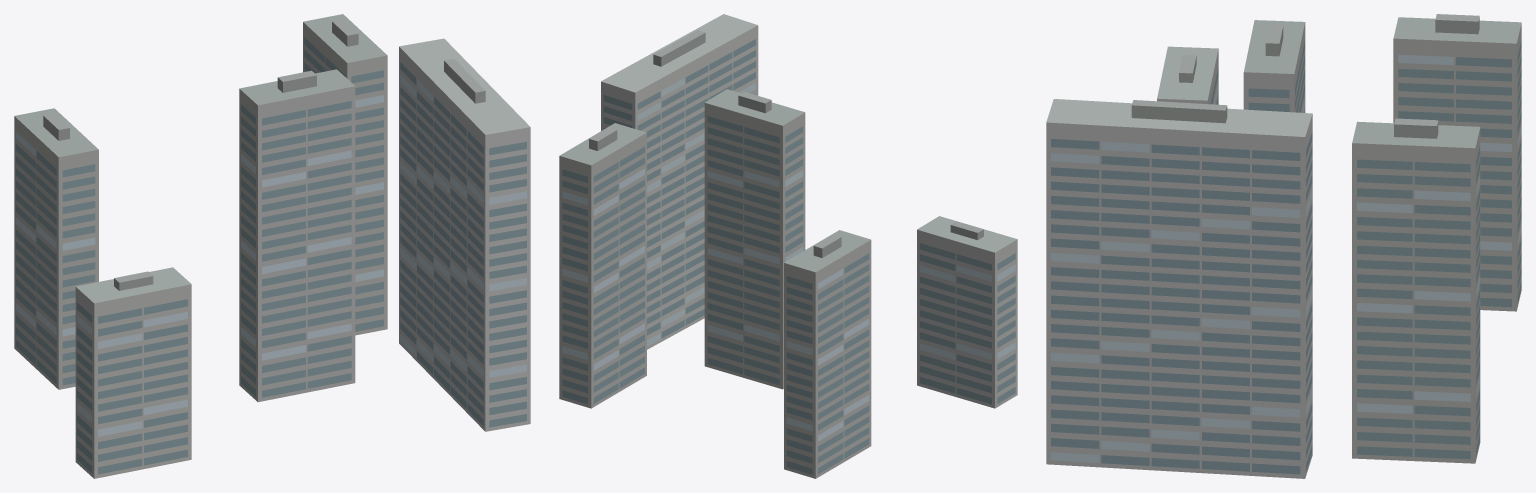
Rendered from apt-a15083202.glb.
3 views of the same model, side by side, from view 1: azimuth 30°, elevation 25°; view 2: azimuth 150°, elevation 25°; view 3: azimuth 270°, elevation 25° (orthographic). The views are drawn at different scales.
Visible parts, largest first — view 1: apt-a15083202; view 2: apt-a15083202; view 3: apt-a15083202.
Part boxes in pixels (box(x1,y1,x2,y2)): apt-a15083202: box(14, 14, 530, 478); apt-a15083202: box(559, 14, 1017, 478); apt-a15083202: box(1046, 14, 1521, 478).
Size of the model in its own units: 93.29 by 67 by 81.42.
